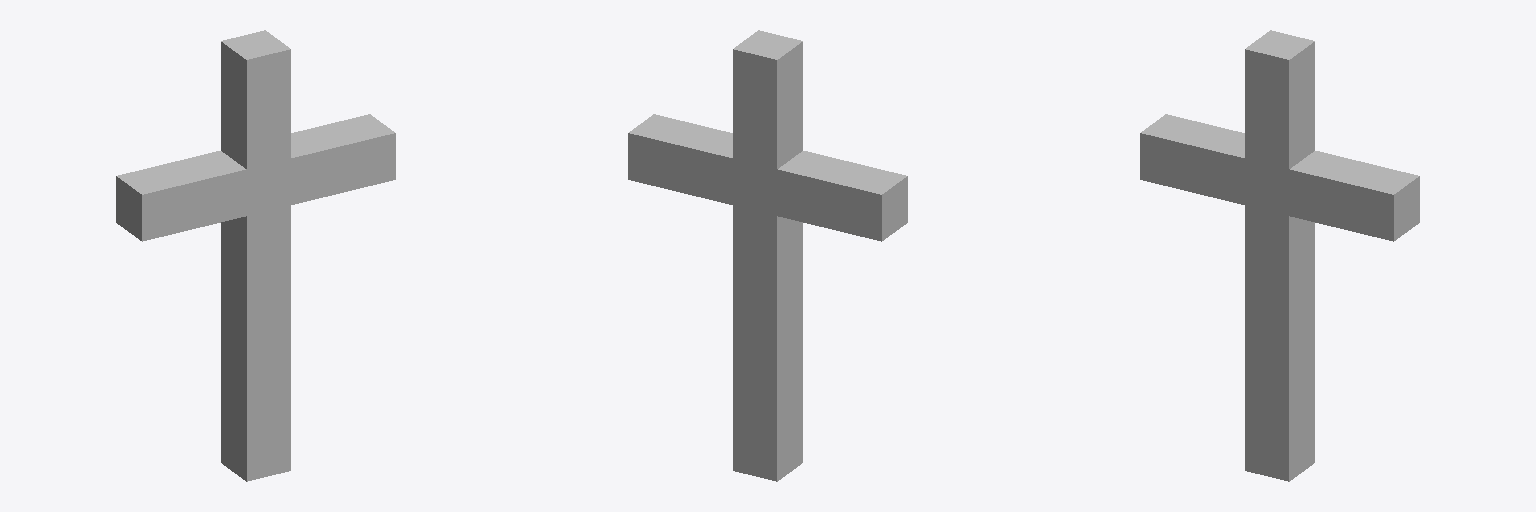
File: cruz.obj
The picture shows the model from 3 angles: view 1: azimuth 30°, elevation 25°; view 2: azimuth 150°, elevation 25°; view 3: azimuth 330°, elevation 25°; orthographic projection.
Parts seen in each view (by area): view 1: object 1; view 2: object 1; view 3: object 1.
Part boxes in pixels (x1,y1,x2,y2): object 1: (116, 30, 395, 481); object 1: (628, 30, 907, 481); object 1: (1140, 30, 1419, 481).
Size of the model in its own units: 1.7 by 2.7 by 0.3.